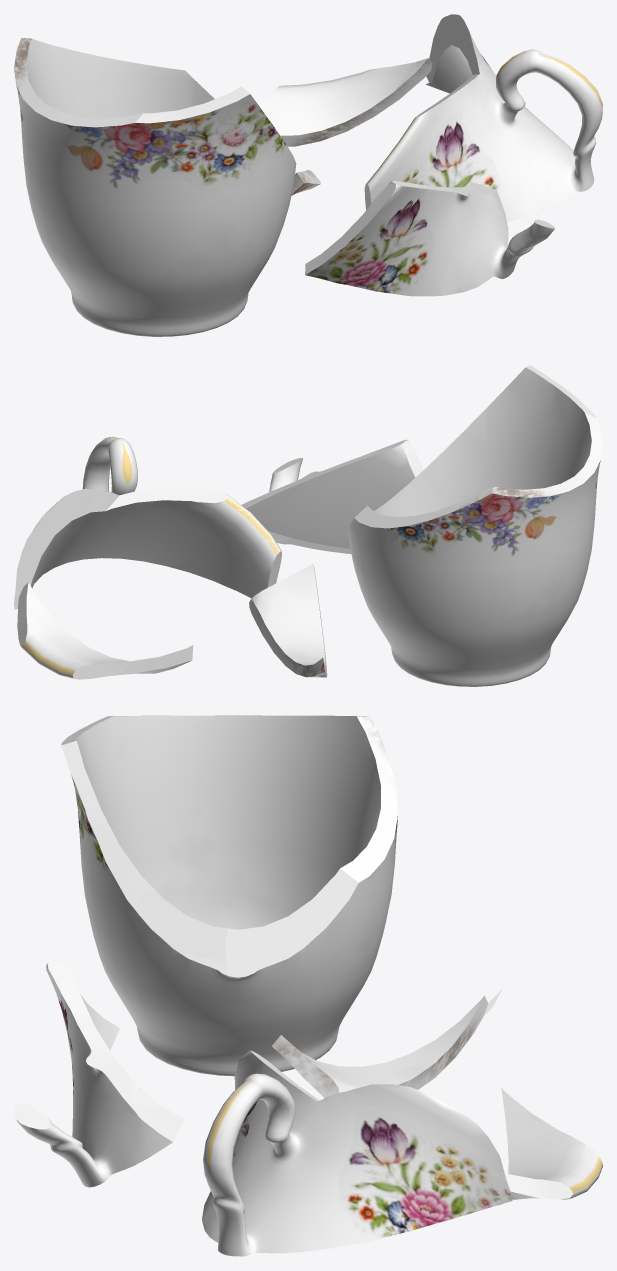
File: porcelain2.fbx
The picture shows the model from 3 angles, top to bottom: view 1: azimuth 30°, elevation 25°; view 2: azimuth 150°, elevation 25°; view 3: azimuth 270°, elevation 25°; orthographic projection. The views are drawn at different scales.
Visible parts, largest first — view 1: porcelain_cup.001; view 2: porcelain_cup.001; view 3: porcelain_cup.001.
Boxes of the visible parts, x1,y1,x2,y2 form: porcelain_cup.001: (14,14,602,336); porcelain_cup.001: (14,365,602,686); porcelain_cup.001: (14,715,602,1256).
Bounding box in the file's own units: 9.22 × 4.12 × 7.31.
Materials: 1 (1 with a texture image).
